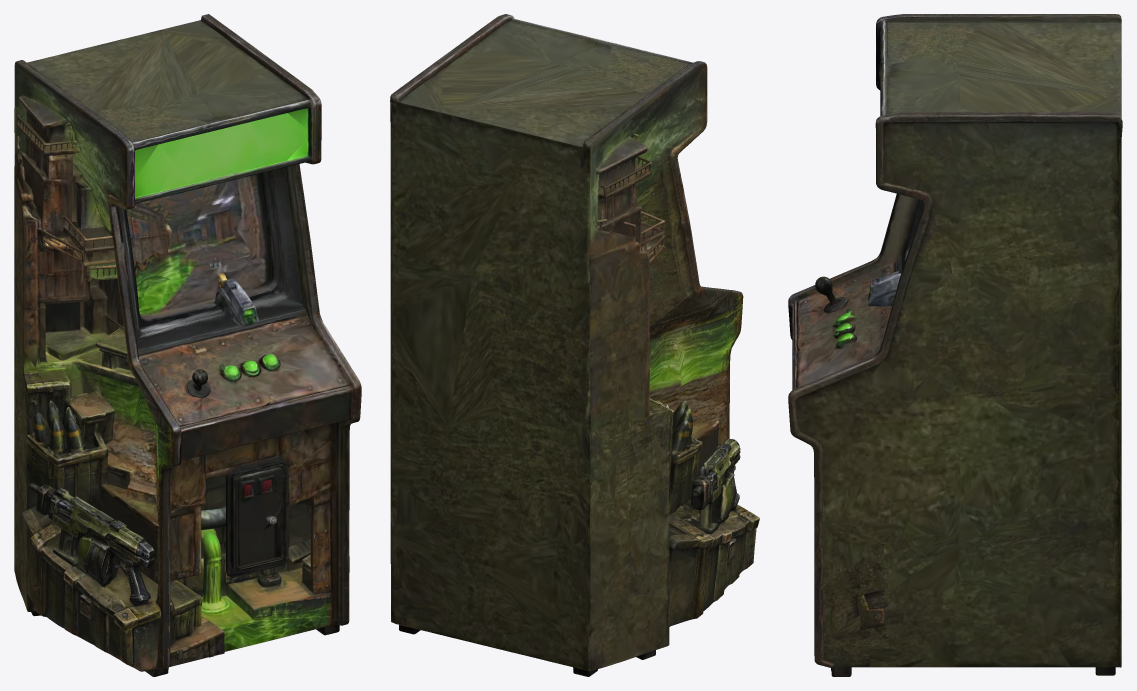
Rendered from cab-quake1.glb.
3 renders of one model, left to right at view 1: azimuth 30°, elevation 25°; view 2: azimuth 150°, elevation 25°; view 3: azimuth 270°, elevation 25°, orthographic. The views are drawn at different scales.
Parts seen in each view (by area): view 1: tripo_node_14090f08-6c66-4d53-8485-a08b19408445; view 2: tripo_node_14090f08-6c66-4d53-8485-a08b19408445; view 3: tripo_node_14090f08-6c66-4d53-8485-a08b19408445.
Part boxes in pixels (x1,y1,x2,y2): tripo_node_14090f08-6c66-4d53-8485-a08b19408445: (14,14,361,676); tripo_node_14090f08-6c66-4d53-8485-a08b19408445: (390,14,759,676); tripo_node_14090f08-6c66-4d53-8485-a08b19408445: (788,14,1122,676).
Bounding box in the file's own units: 0.4782 × 0.98 × 0.5278.
Materials: 1 (1 with a texture image).
